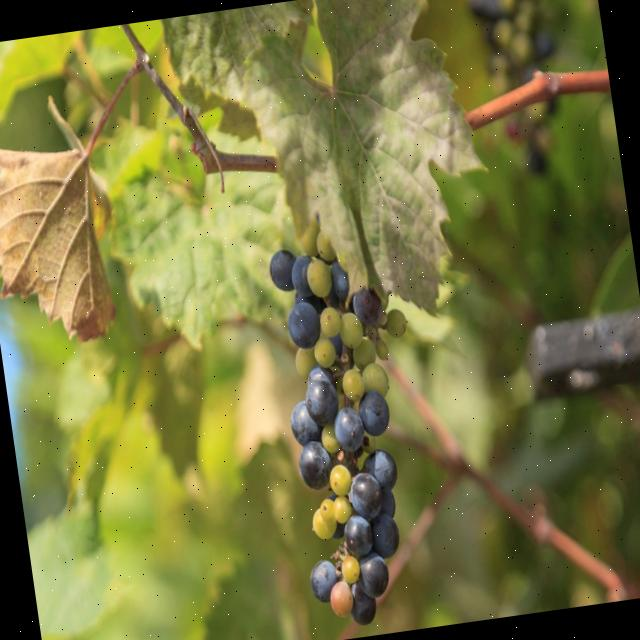grape: (269, 219, 406, 625)
